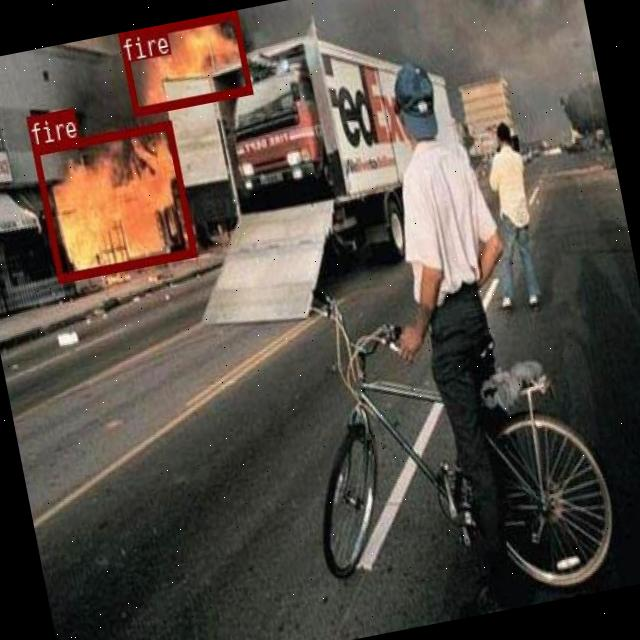fire: (31, 120, 196, 282), (118, 10, 251, 114)
